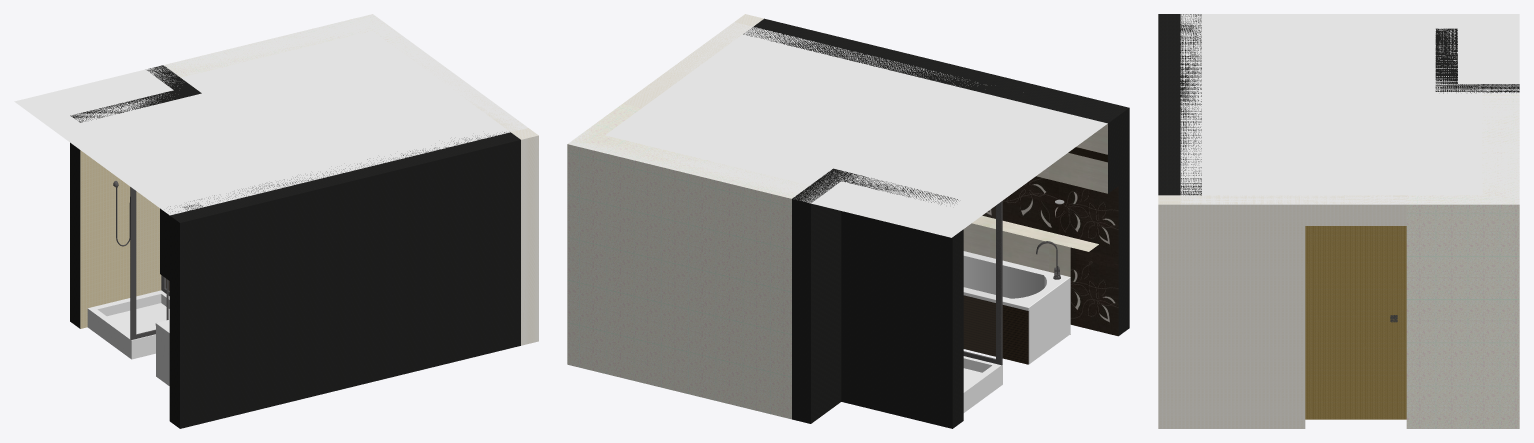
The model's file is patriani.glb.
3 renders of one model, left to right at view 1: azimuth 30°, elevation 25°; view 2: azimuth 150°, elevation 25°; view 3: azimuth 270°, elevation 25°, orthographic. The views are drawn at different scales.
Visible parts, largest first — view 1: object 89, object 5, object 1, object 90, object 9, object 91, object 7, object 63; view 2: object 5, object 91, object 1, object 89, object 63, object 88, object 64, object 90, object 9, object 7; view 3: object 5, object 90, object 91, object 69, object 89, object 1, object 70, object 67.
Boxes of the visible parts, x1,y1,x2,y2 form: object 89: [160, 132, 520, 428]; object 5: [14, 14, 527, 215]; object 1: [70, 65, 201, 328]; object 90: [411, 53, 538, 345]; object 9: [87, 290, 169, 359]; object 91: [164, 14, 420, 77]; object 7: [130, 187, 169, 339]; object 63: [155, 319, 169, 385]; object 5: [568, 22, 1107, 237]; object 91: [567, 103, 809, 419]; object 1: [792, 168, 963, 428]; object 89: [743, 18, 1129, 336]; object 63: [963, 251, 1070, 364]; object 88: [963, 106, 1098, 334]; object 64: [963, 295, 1028, 364]; object 90: [623, 14, 763, 107]; object 9: [963, 356, 1002, 412]; object 7: [963, 201, 1002, 365]; object 5: [1180, 14, 1519, 204]; object 90: [1158, 195, 1406, 428]; object 91: [1406, 93, 1519, 428]; object 69: [1312, 226, 1399, 419]; object 89: [1158, 14, 1201, 195]; object 1: [1435, 28, 1519, 93]; object 70: [1305, 226, 1312, 419]; object 67: [1400, 226, 1406, 419].
Size of what is drawn, in the model's own units: 4.23 by 2.32 by 3.39.
Materials: 29 (14 with a texture image).
